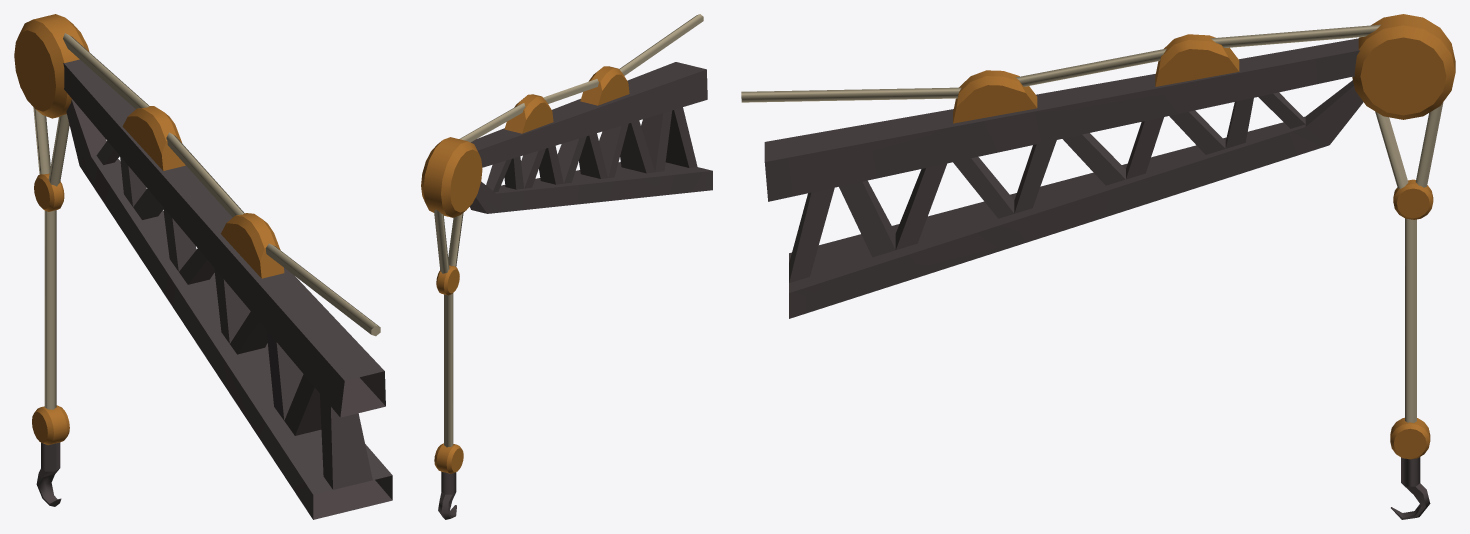
File: Wall_Crane.fbx
The picture shows the model from 3 angles, left to right: view 1: azimuth 30°, elevation 25°; view 2: azimuth 150°, elevation 25°; view 3: azimuth 270°, elevation 25°; orthographic projection. The views are drawn at different scales.
Visible parts, largest first — view 1: Wall_Crane; view 2: Wall_Crane; view 3: Wall_Crane.
Boxes of the visible parts, left/top/right/bottom form: Wall_Crane: left=14, top=14, right=392, bottom=519; Wall_Crane: left=421, top=14, right=712, bottom=519; Wall_Crane: left=741, top=14, right=1455, bottom=519.
Bounding box in the file's own units: 0.6624 × 3.87 × 5.01.
